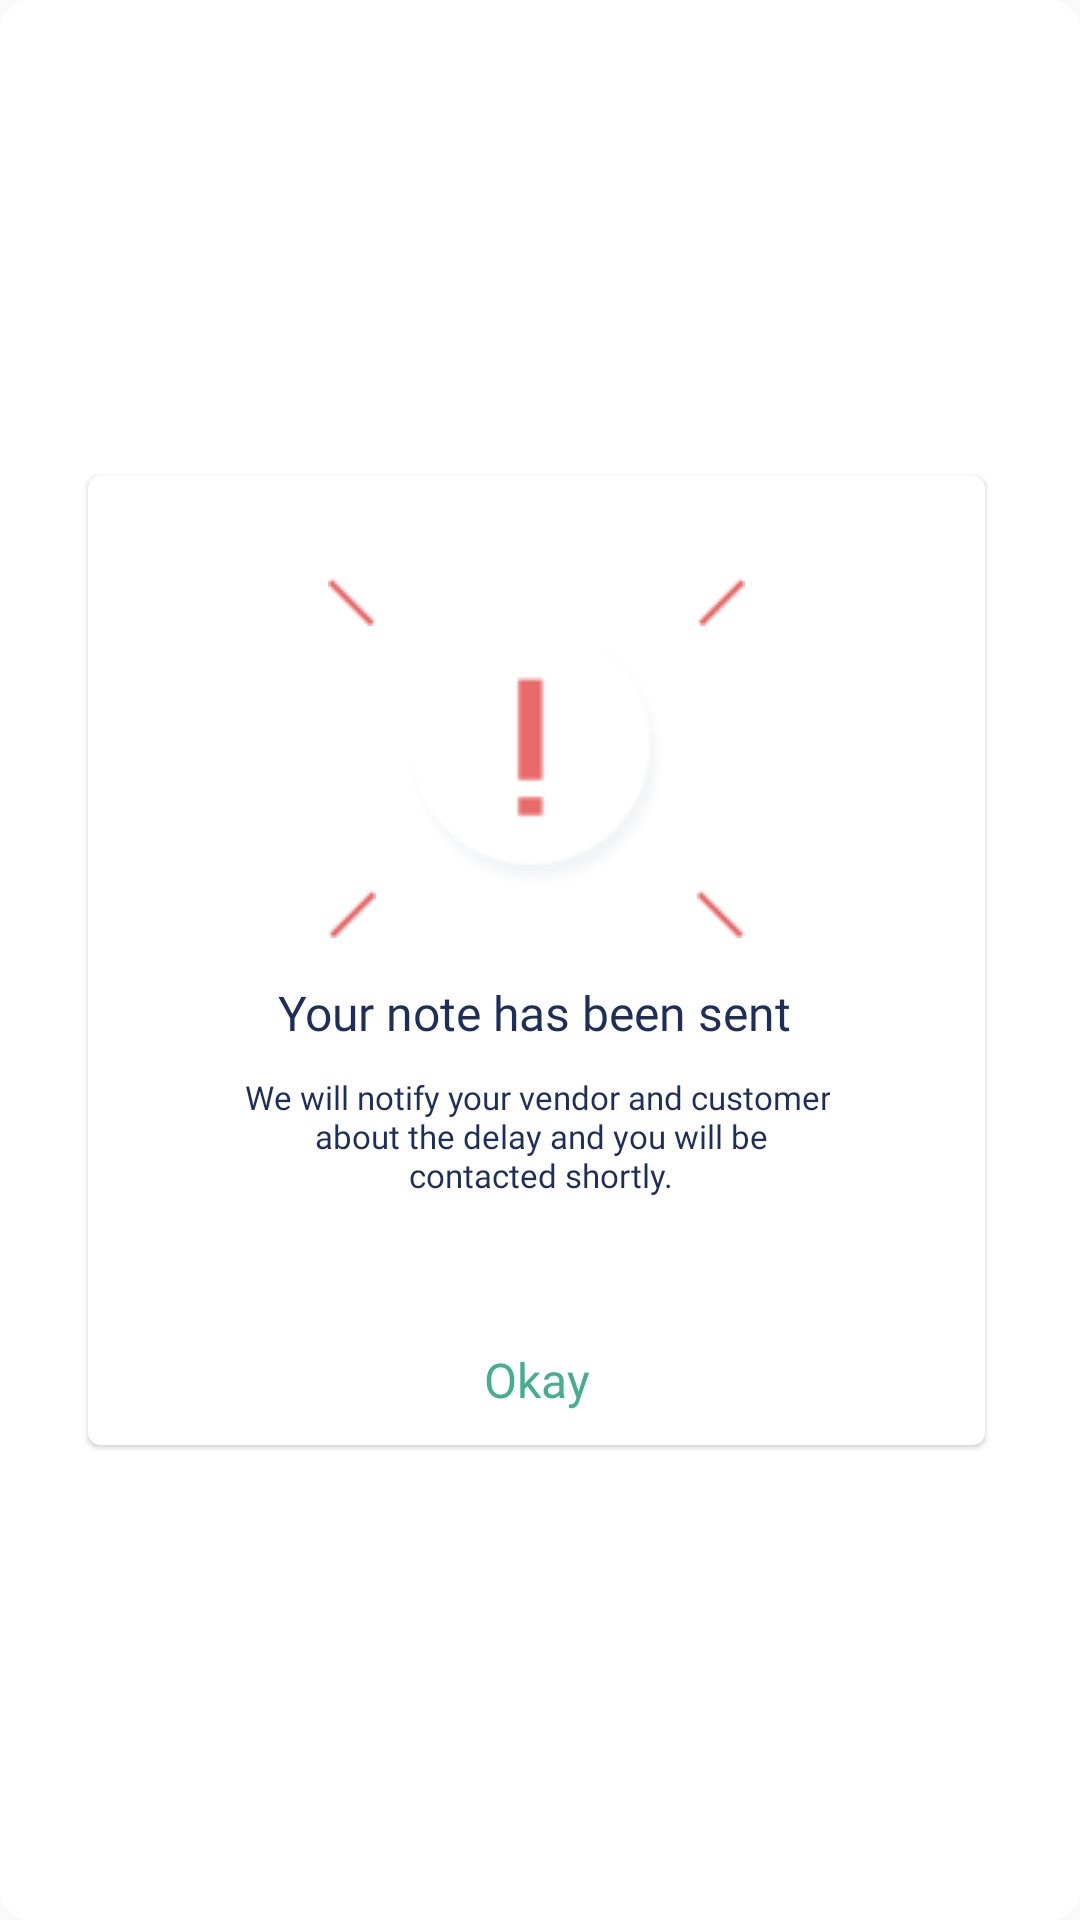

Icon bounding boxes for this 1080px×1920px phone screenshot, format (x1, y1, x2, y2):
redline: (328, 578, 376, 626), (697, 578, 745, 626), (328, 890, 376, 938), (697, 890, 745, 938)
